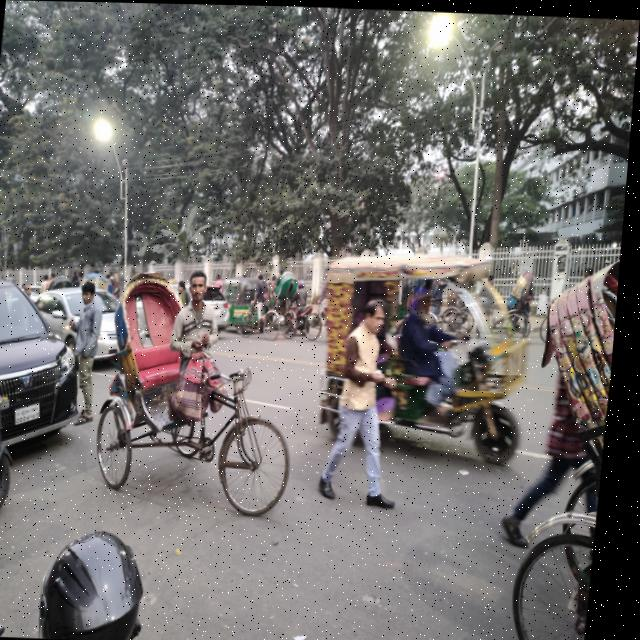rikshaw: (90, 281, 310, 532)
